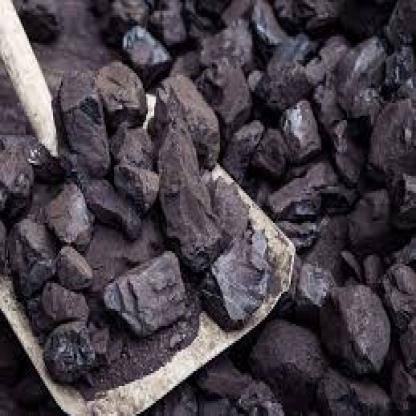Sedimentary_coal: (154, 122, 218, 266), (201, 240, 276, 328), (152, 75, 222, 167), (54, 68, 116, 170), (107, 255, 182, 328), (329, 272, 384, 369), (336, 34, 387, 131), (93, 53, 159, 124), (42, 176, 103, 246), (254, 63, 308, 124), (283, 94, 326, 152), (40, 281, 100, 307)
